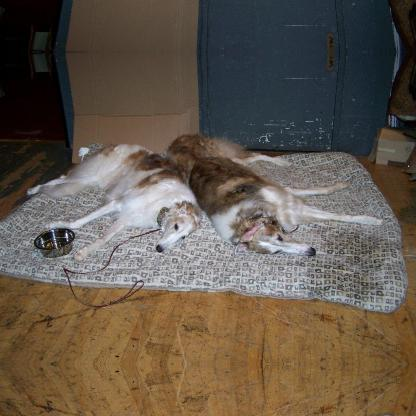Dog: (162, 131, 384, 254), (28, 142, 202, 260)
